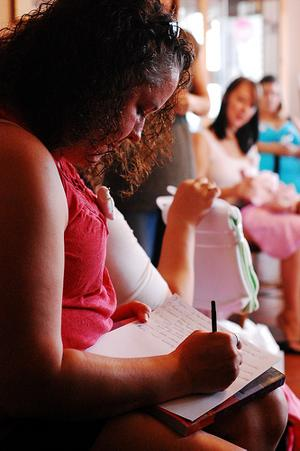person: (2, 4, 288, 448)
